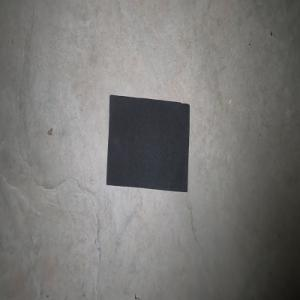PaintChip: (106, 94, 189, 192)
